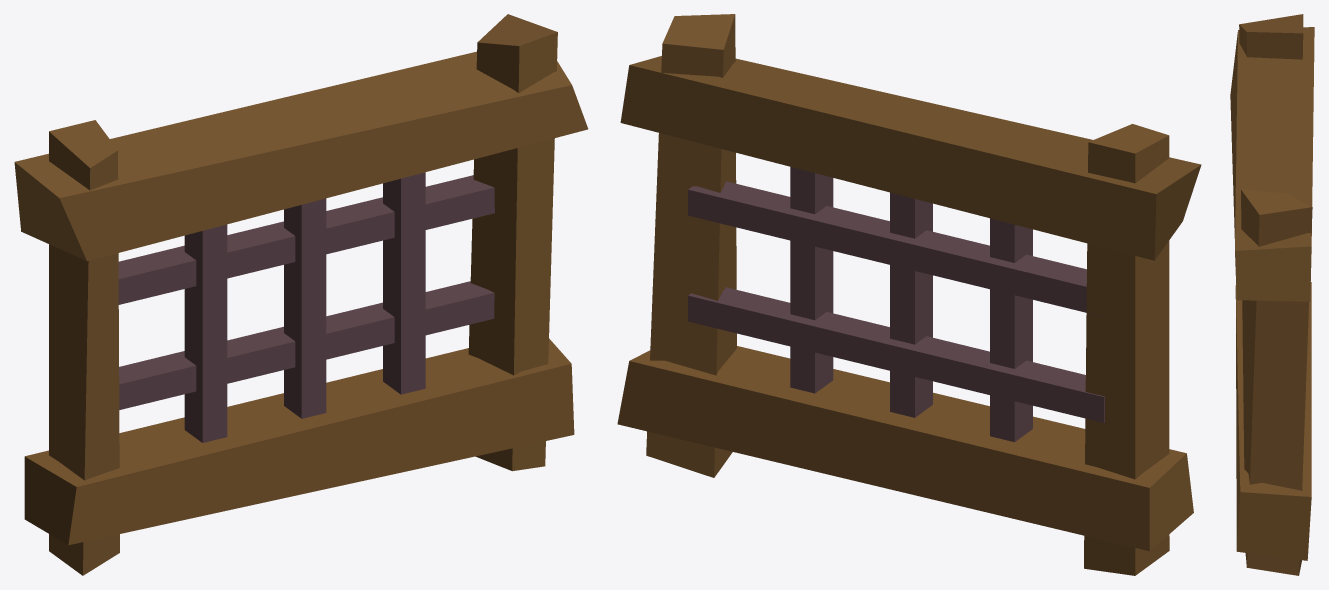
Rendered from Small_Grate1.fbx.
The picture shows the model from 3 angles, left to right: view 1: azimuth 30°, elevation 25°; view 2: azimuth 150°, elevation 25°; view 3: azimuth 270°, elevation 25°; orthographic projection. The views are drawn at different scales.
Parts seen in each view (by area): view 1: Small_Grate1; view 2: Small_Grate1; view 3: Small_Grate1.
Part boxes in pixels (x1,y1,x2,y2): Small_Grate1: (14,14,588,575); Small_Grate1: (617,14,1201,575); Small_Grate1: (1230,14,1314,575).
Bounding box in the file's own units: 125 × 96.4 × 19.86.
